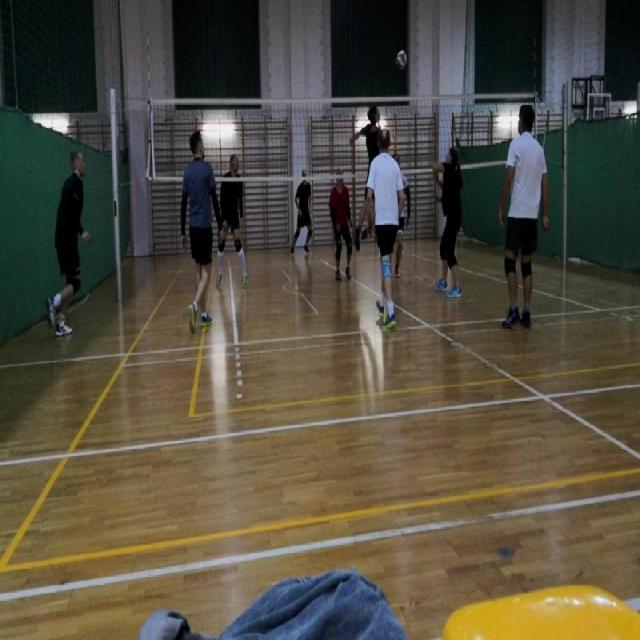volleyball: (396, 48, 408, 72)
